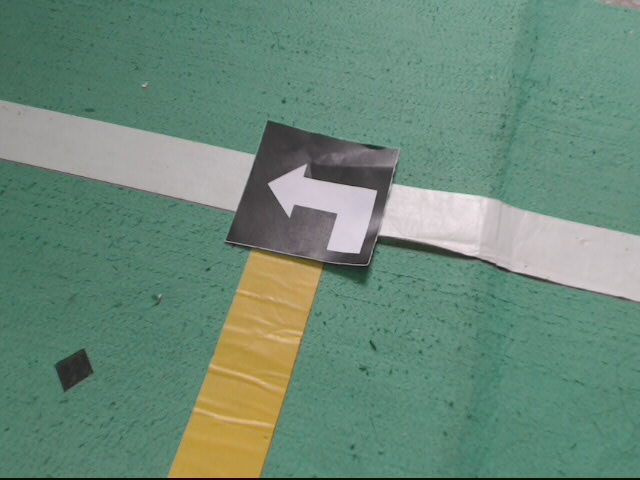left: (223, 120, 403, 266)
